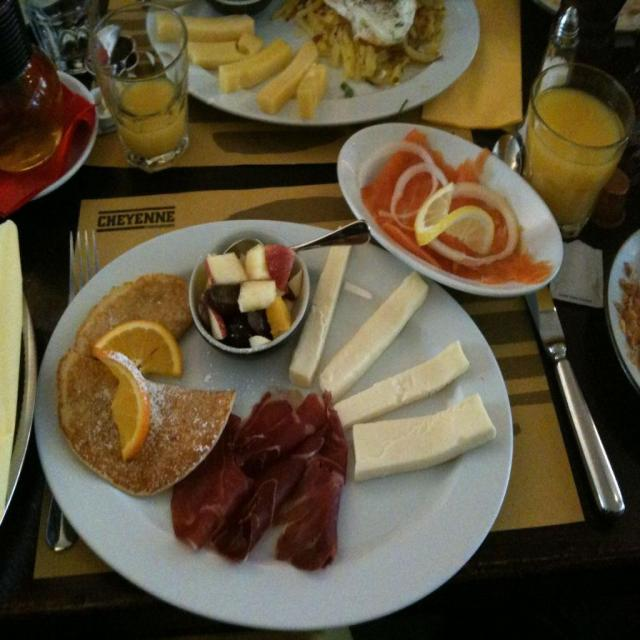Juice: (521, 73, 629, 239)
